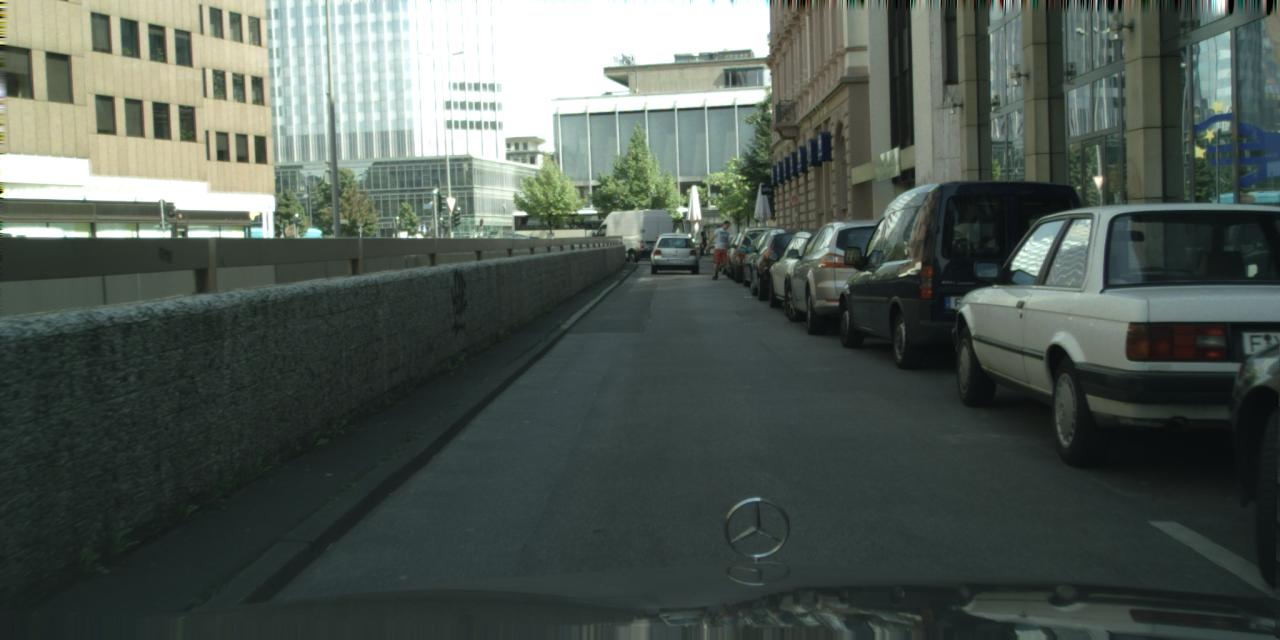ped: (709, 221, 733, 280), (698, 226, 709, 253)
